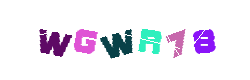7: (110, 0, 190, 80)
8: (164, 0, 244, 80)
G: (78, 0, 158, 80)
R: (85, 0, 165, 80)
W: (13, 0, 93, 80), (79, 0, 159, 80)
